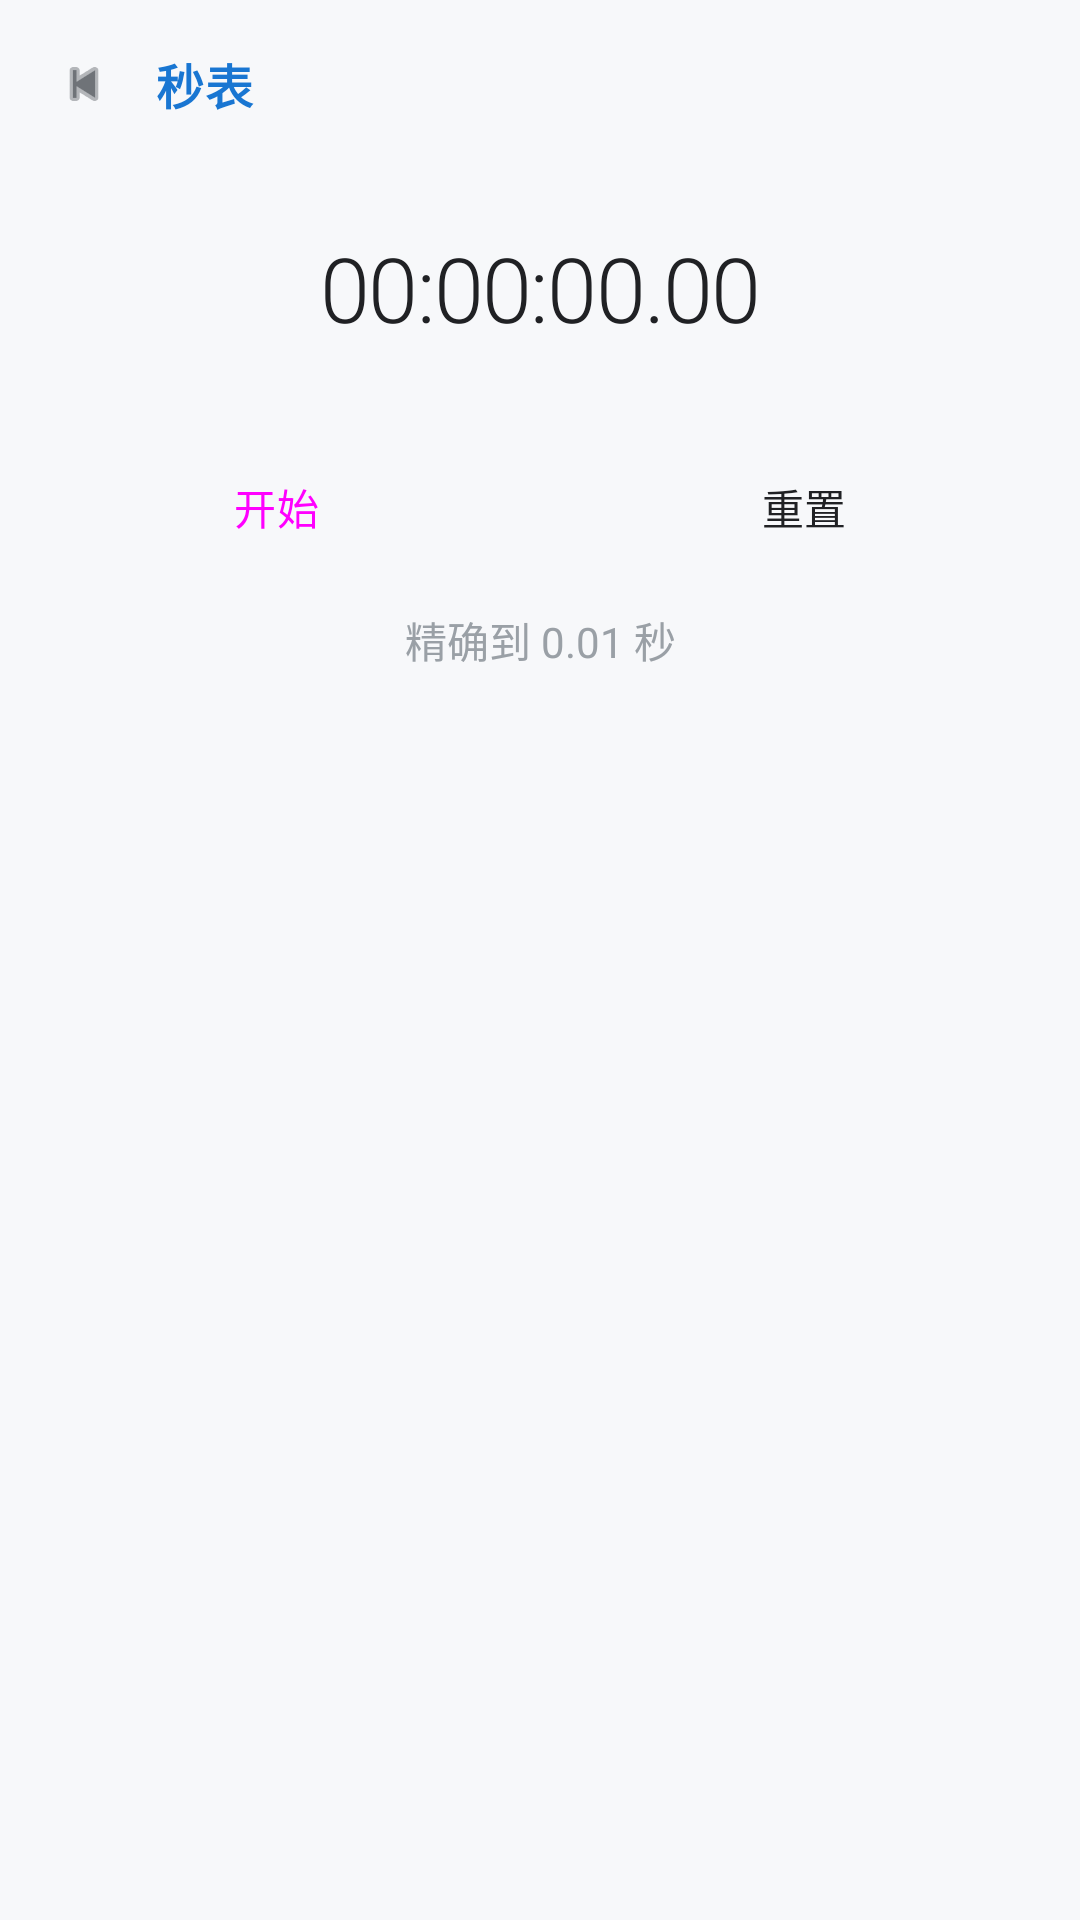

Where to tap for icons on this 1080 x 1920 app screen, as point (x, y):
返回: point (84, 84)
